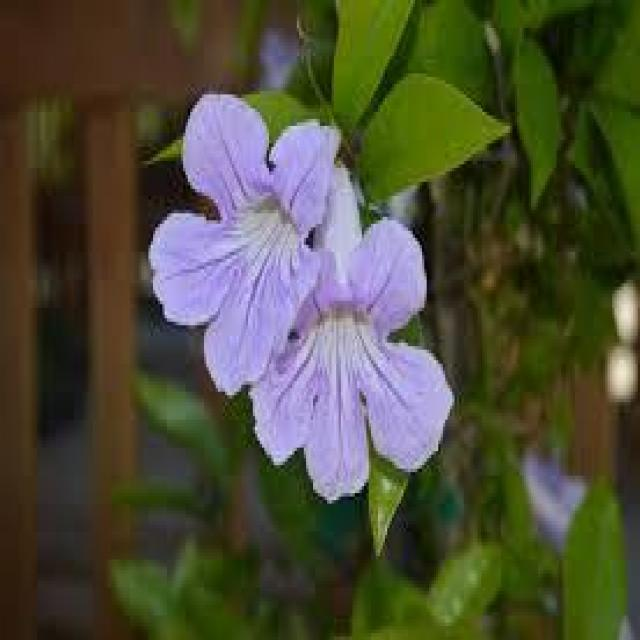organic waste: (249, 182, 465, 514), (160, 80, 341, 396)
